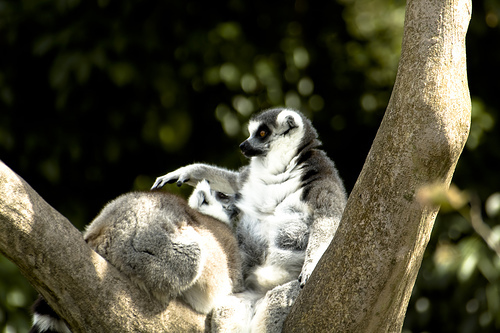cat: (153, 108, 347, 331), (26, 179, 243, 332)
